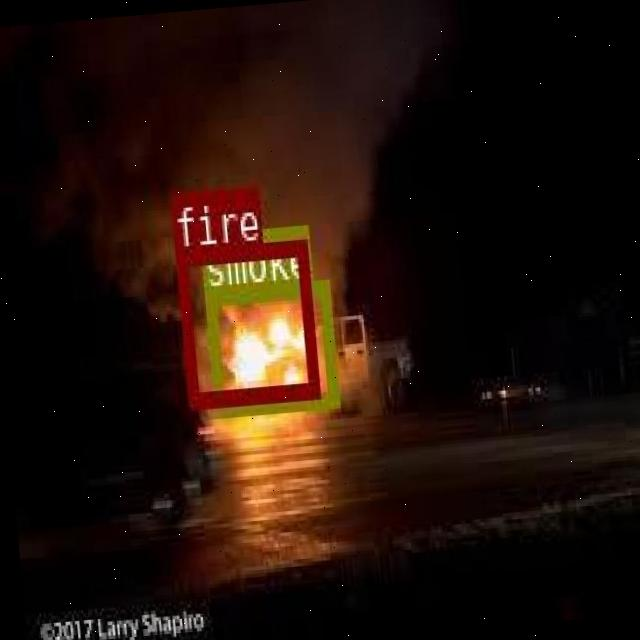fire: (174, 238, 316, 404)
smoke: (204, 278, 336, 416)
